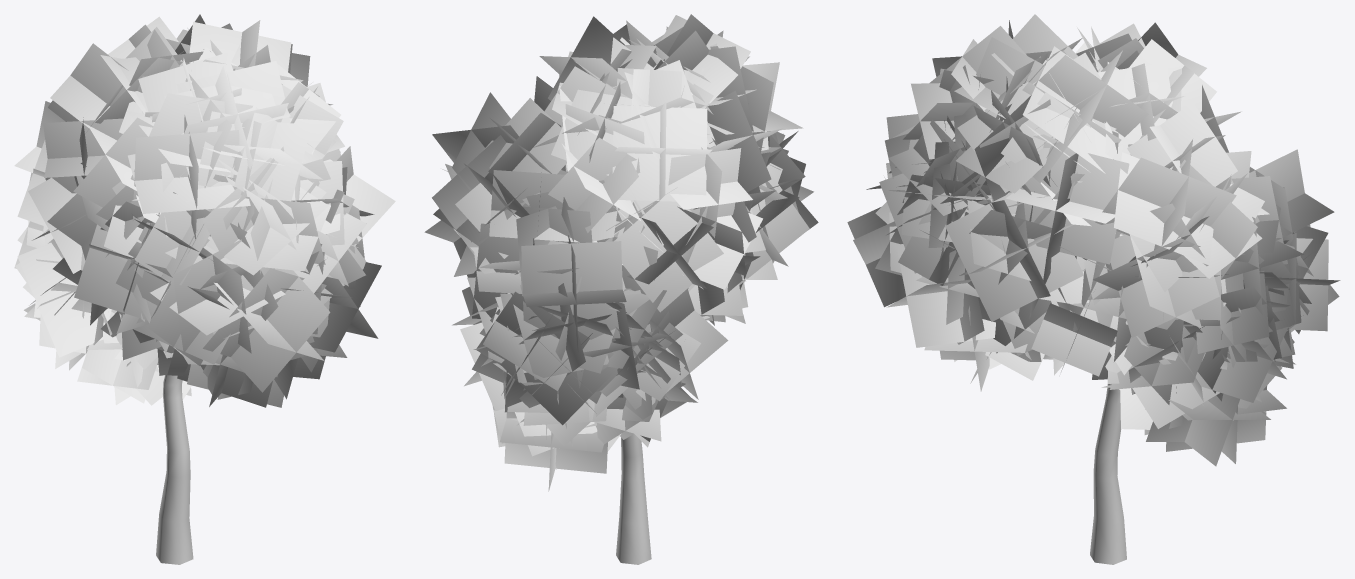
File: STOak3.glb
The picture shows the model from 3 angles, left to right: view 1: azimuth 30°, elevation 25°; view 2: azimuth 150°, elevation 25°; view 3: azimuth 270°, elevation 25°; orthographic projection. The views are drawn at different scales.
Parts seen in each view (by area): view 1: Leaf.061; view 2: Leaf.061; view 3: Leaf.061.
Part boxes in pixels (x1=…): Leaf.061: x1=14, y1=14, x2=395, y2=564; Leaf.061: x1=424, y1=14, x2=818, y2=564; Leaf.061: x1=847, y1=14, x2=1340, y2=564.
Bounding box in the file's own units: 12.04 × 19.41 × 16.27.
Materials: 2 (1 with a texture image).
